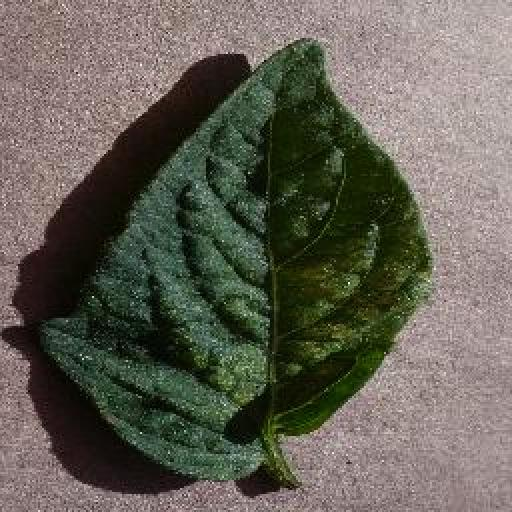disease_tomato: (42, 34, 430, 480)
